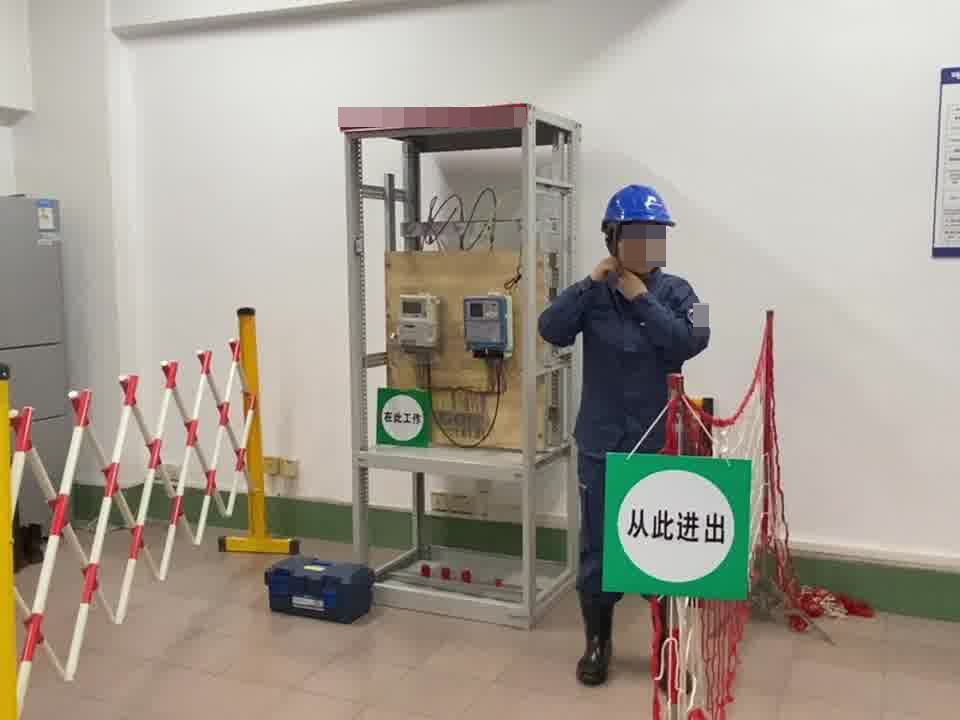downsuit: (576, 448, 628, 599)
halt: (599, 182, 675, 276)
hand: (619, 271, 650, 303), (591, 255, 617, 287)
intosign: (596, 452, 754, 603)
person: (535, 181, 713, 695)
shoe: (576, 596, 618, 684)
sleeve: (686, 300, 708, 331)
upsuit: (539, 269, 711, 448)
worksign: (373, 381, 436, 453)
